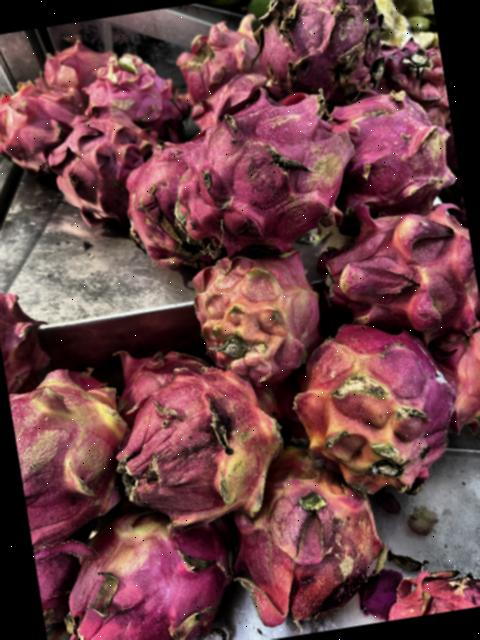buah-naga-belum-matang: (222, 437, 391, 613), (300, 314, 452, 500), (5, 349, 142, 540), (114, 359, 278, 518), (68, 500, 248, 640), (325, 194, 480, 342), (188, 236, 322, 377), (325, 80, 451, 216), (425, 331, 480, 436)
buah-naga-matang: (164, 92, 355, 246), (249, 0, 373, 105), (48, 111, 154, 226), (122, 142, 199, 280), (0, 69, 85, 180), (371, 38, 453, 140), (164, 8, 260, 92), (86, 54, 175, 134), (0, 268, 53, 388)
